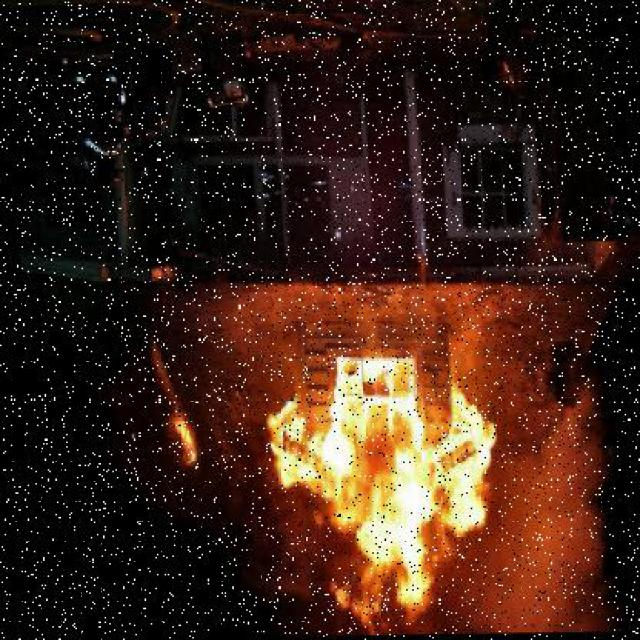fire: (210, 355, 530, 638)
